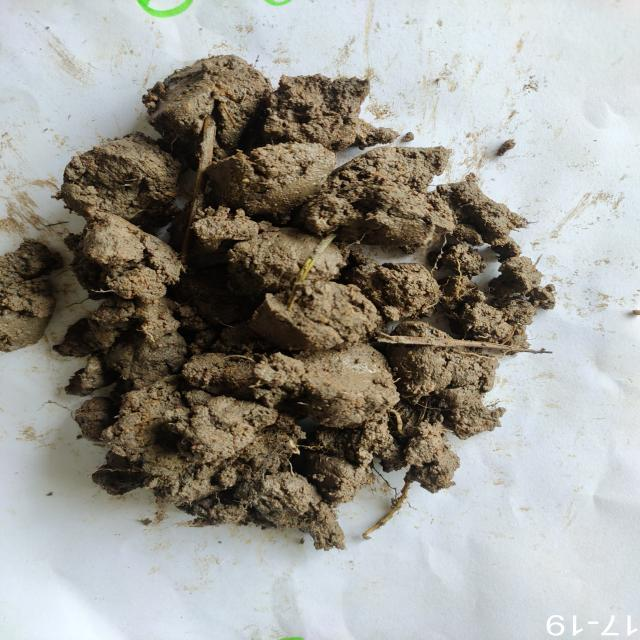soil: (107, 152, 441, 462)
